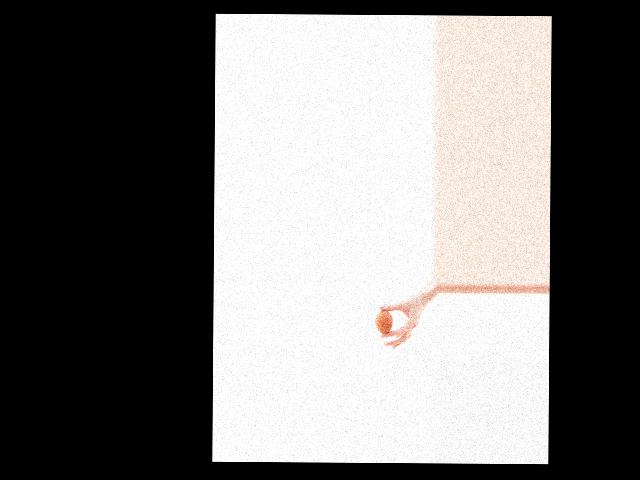egg: (374, 310, 392, 333)
